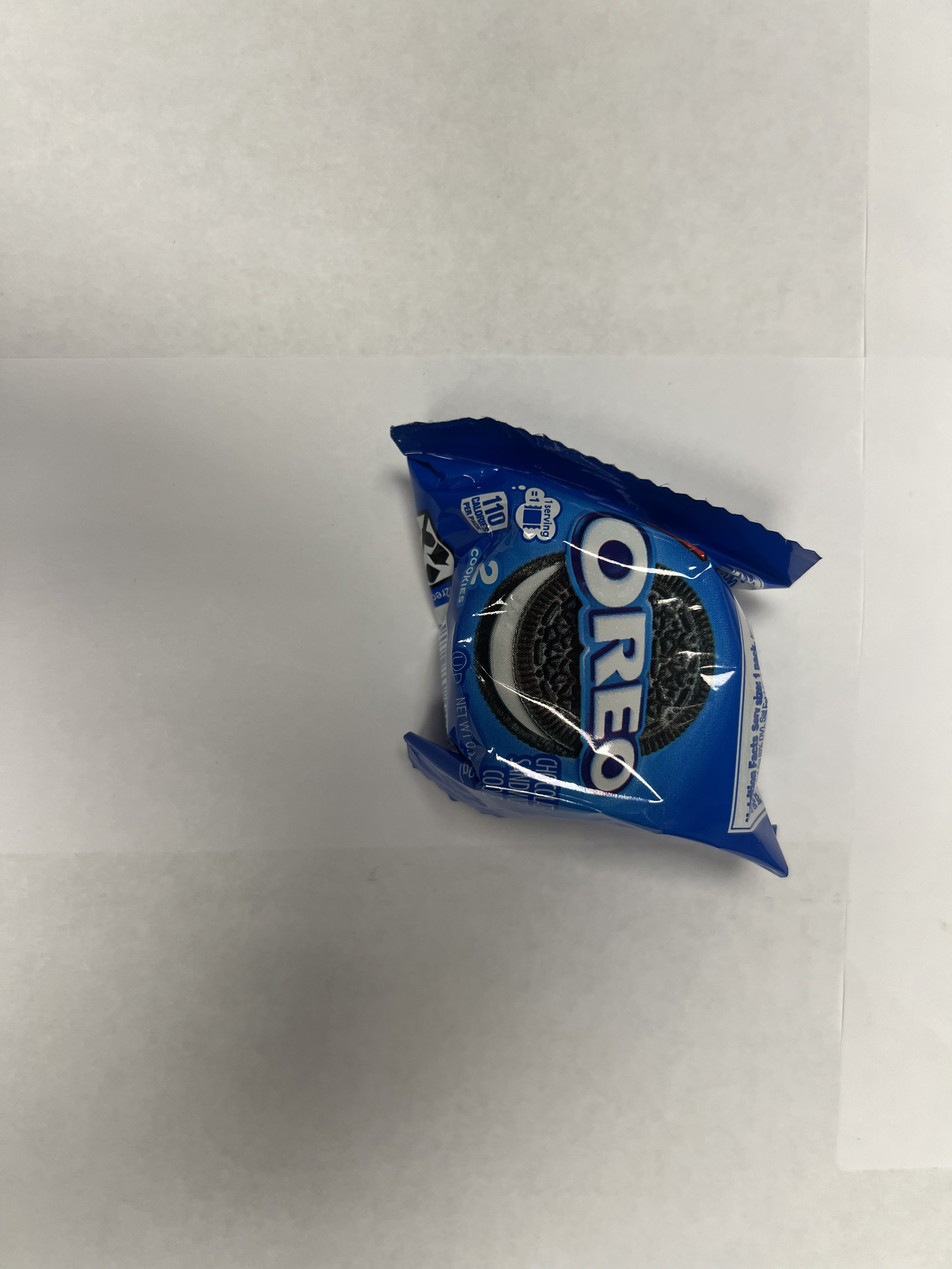packaged: (391, 411, 817, 880)
